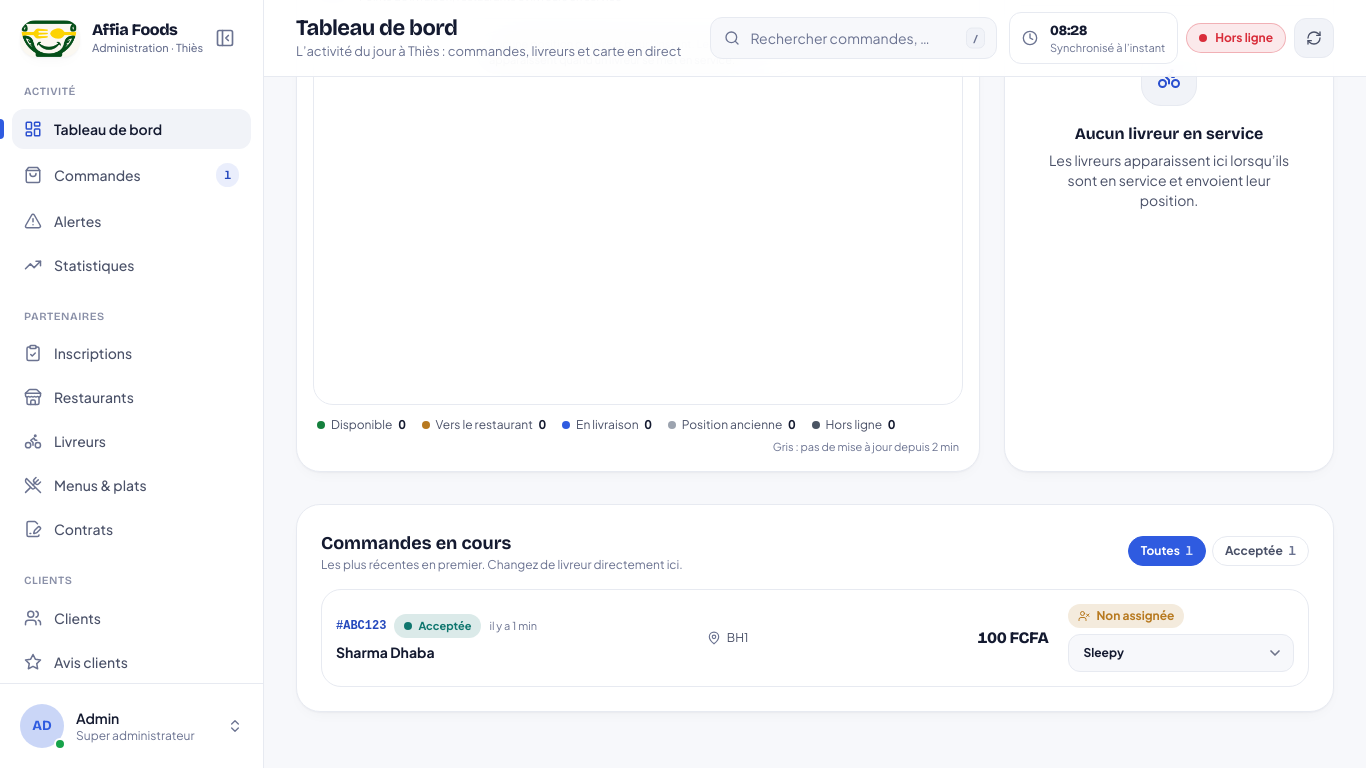
Test: WEB-04 assigning an offline rider › RIDER_BUSY shows a plain sentence, not the server wording
(page scrolled)
Select "Sleepy" in the dropdown named "Assigner le livreur de la commande #ABC123" at (1181, 653), box [1068, 634, 1294, 672]
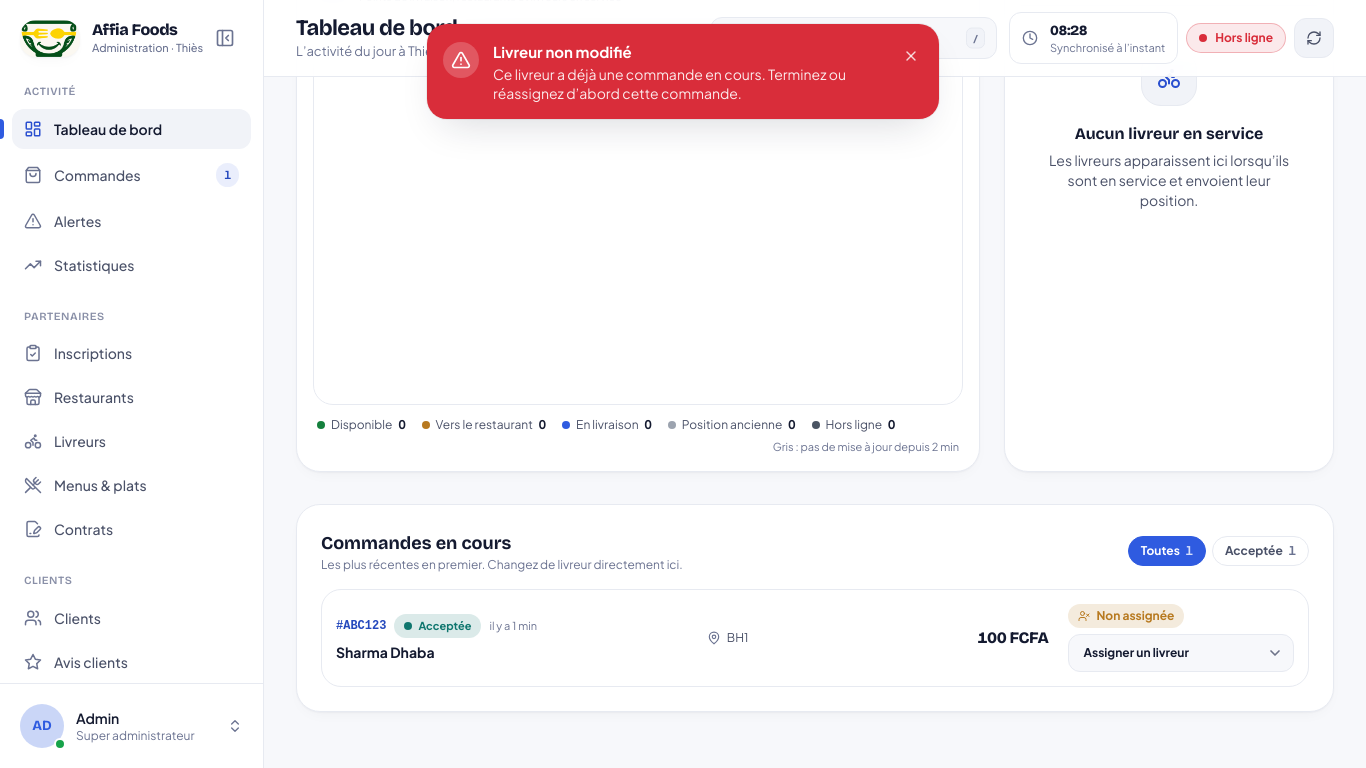
Result: the text "déjà une commande en cours" is shown at [493, 65, 846, 102]
